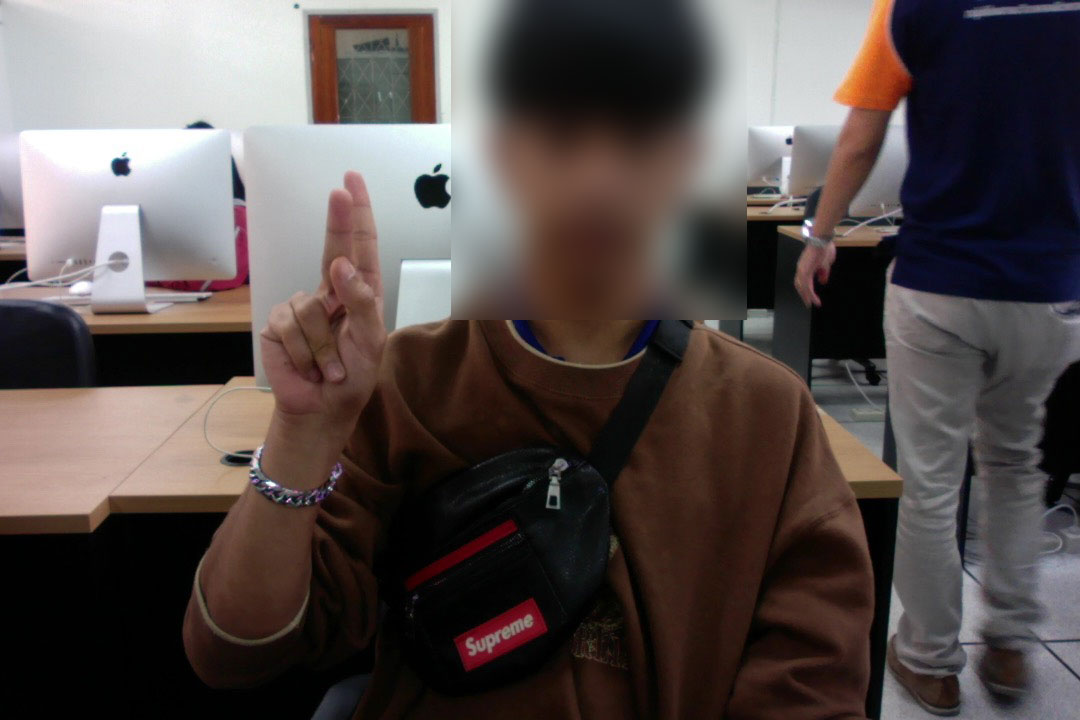ko: (247, 154, 395, 422)
